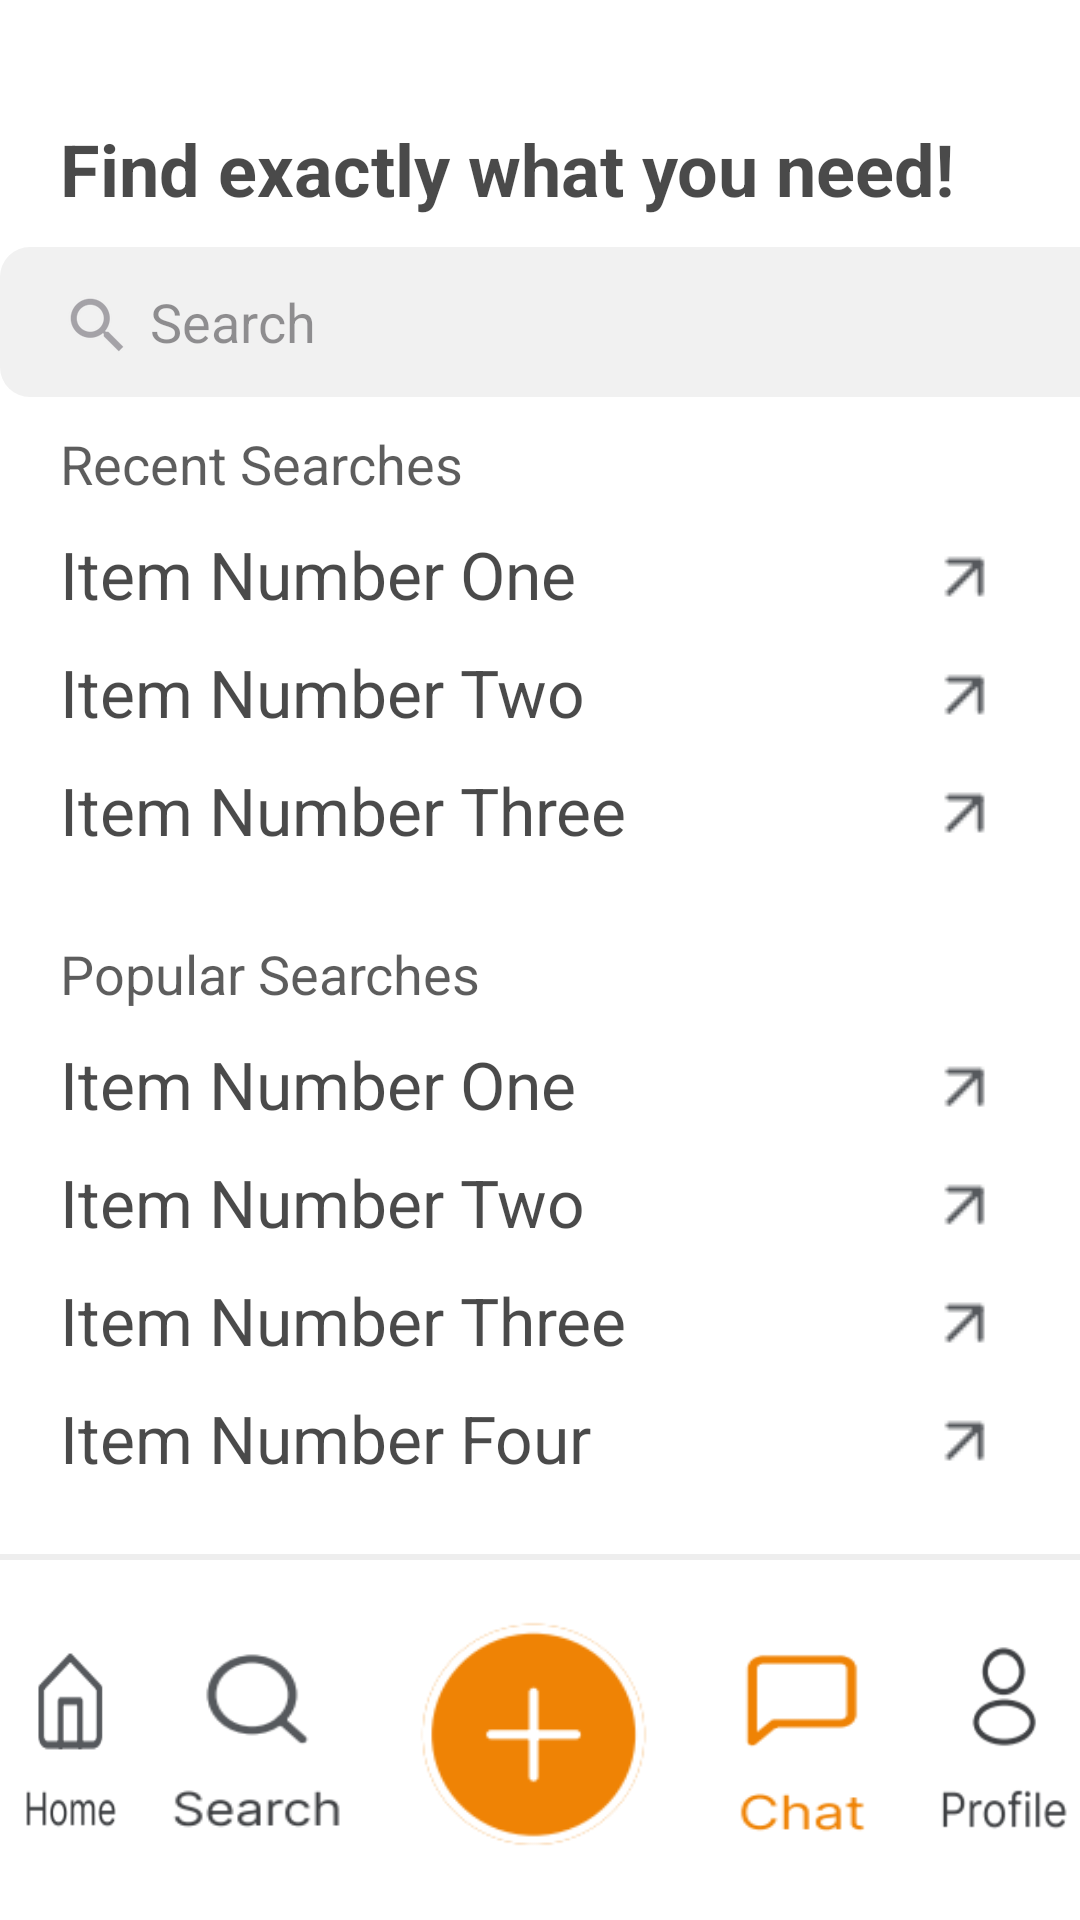

Screen size 1080px x 1920px. Icon name, then its box in pixels as box(x1, y1, x2, y2):
arrow: box(944, 556, 985, 597), box(944, 674, 985, 715), box(944, 792, 985, 833), box(944, 1066, 985, 1107), box(944, 1184, 985, 1225), box(944, 1302, 985, 1343), box(944, 1420, 985, 1461)
